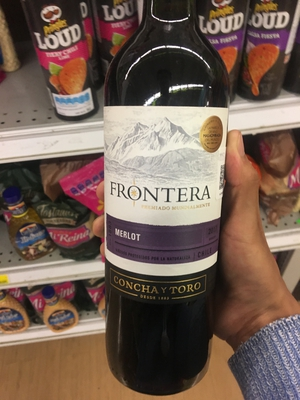frontera merlot: (95, 32, 243, 400)
